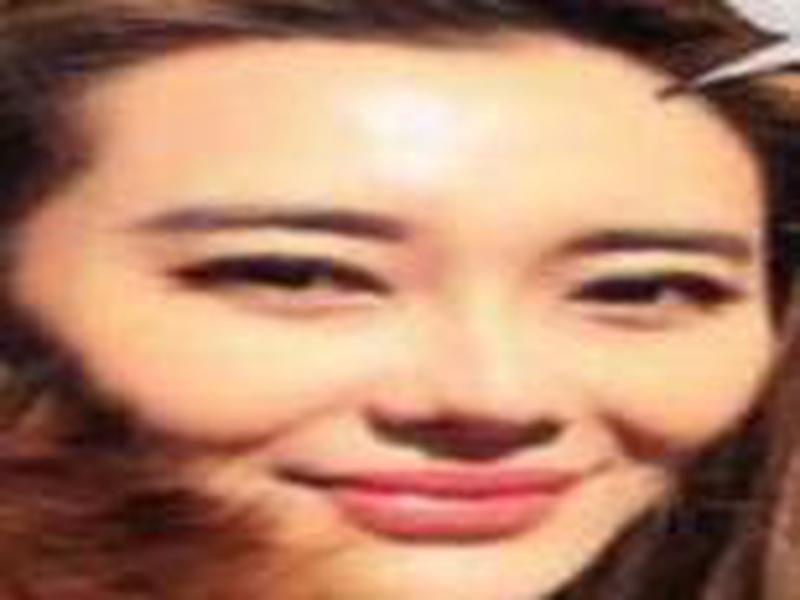without_mask: (93, 72, 755, 600)
